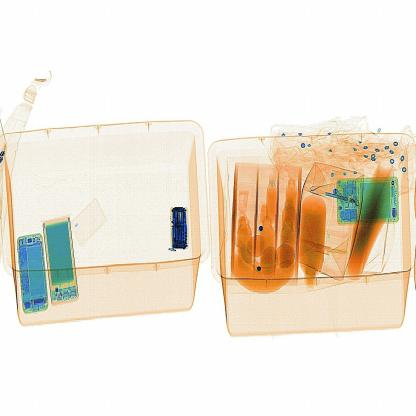scissors: (152, 200, 196, 257)
